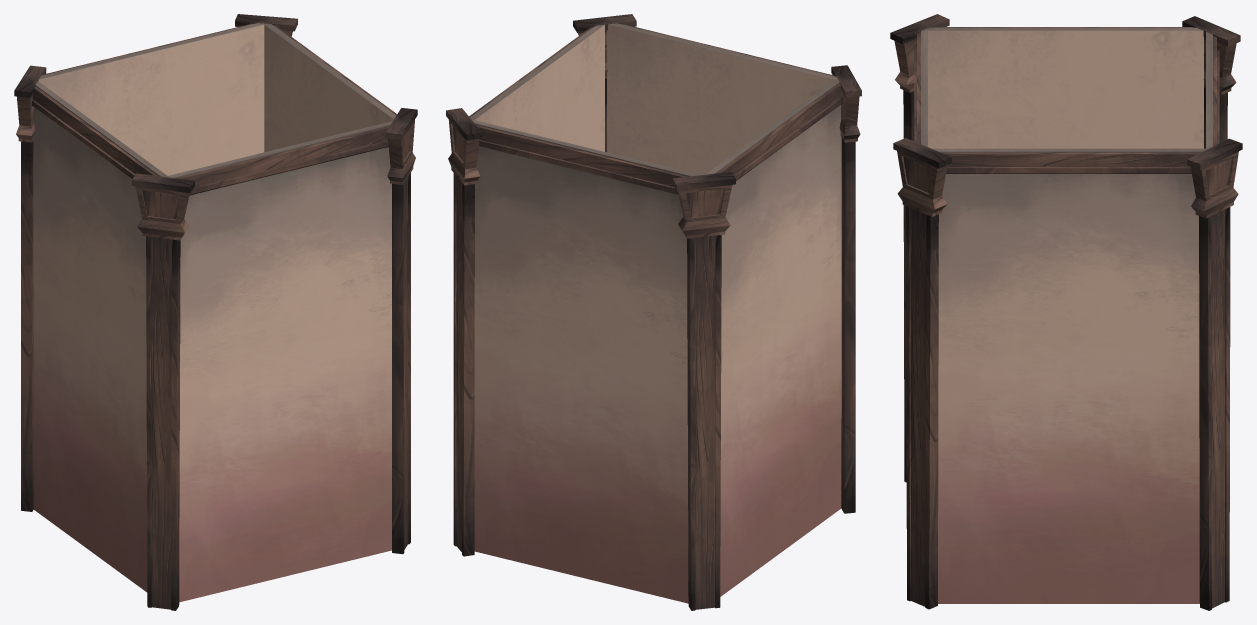
The model's file is Wall_Top_Pillar_V1.fbx.
3 renders of one model, left to right at view 1: azimuth 30°, elevation 25°; view 2: azimuth 150°, elevation 25°; view 3: azimuth 270°, elevation 25°, orthographic. The views are drawn at different scales.
Parts seen in each view (by area): view 1: Pillar_Top; view 2: Pillar_Top; view 3: Pillar_Top.
Part boxes in pixels (bbox=[...]): Pillar_Top: bbox=[14, 14, 417, 610]; Pillar_Top: bbox=[446, 14, 861, 610]; Pillar_Top: bbox=[890, 14, 1242, 610].
Size of the model in its own units: 0.0299 by 0.042 by 0.0296.
